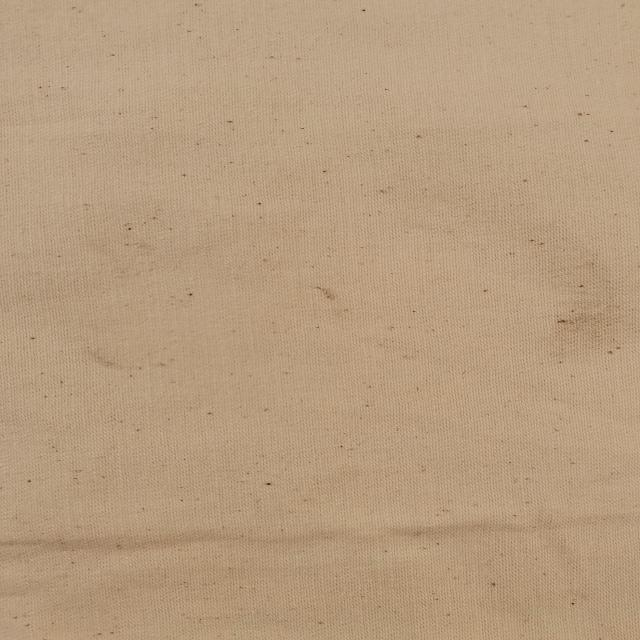taaaches: (536, 251, 632, 358), (311, 284, 346, 308)
